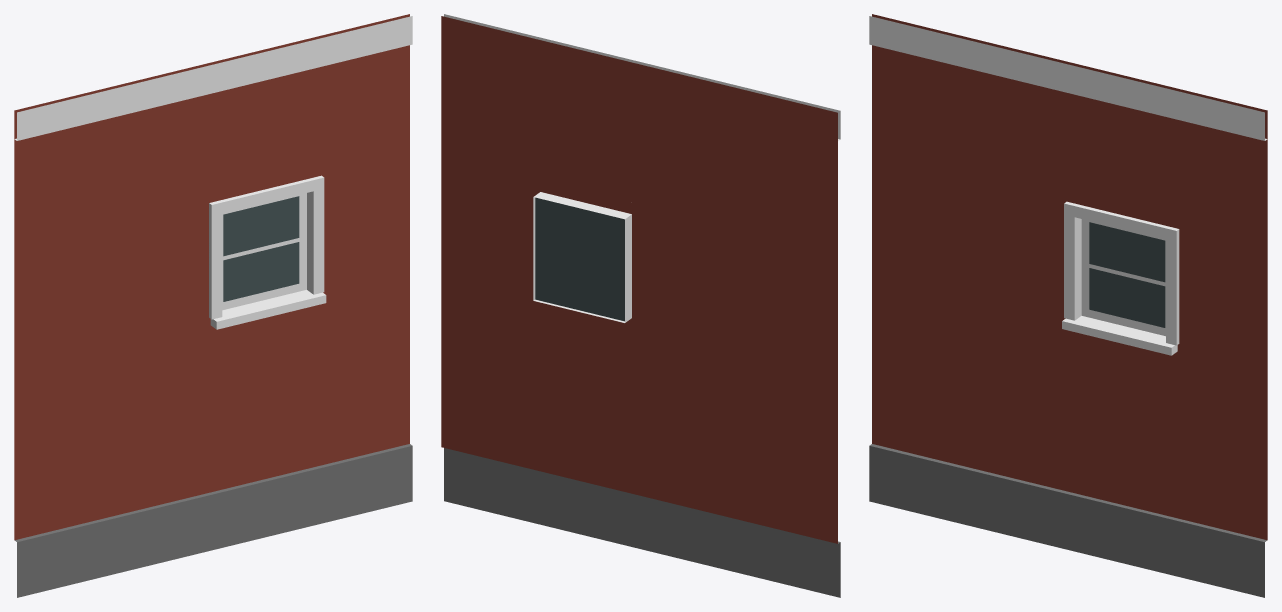
The picture shows the model from 3 angles, left to right: view 1: azimuth 30°, elevation 25°; view 2: azimuth 150°, elevation 25°; view 3: azimuth 330°, elevation 25°; orthographic projection.
Visible parts, largest first — view 1: a2015/600/base-w4; view 2: a2015/600/base-w4; view 3: a2015/600/base-w4.
Boxes of the visible parts, x1=… form: a2015/600/base-w4: x1=14, y1=14, x2=412, y2=597; a2015/600/base-w4: x1=441, y1=14, x2=840, y2=597; a2015/600/base-w4: x1=869, y1=14, x2=1267, y2=597.
Size of the model in its own units: 2.6 by 3.05 by 0.15.
